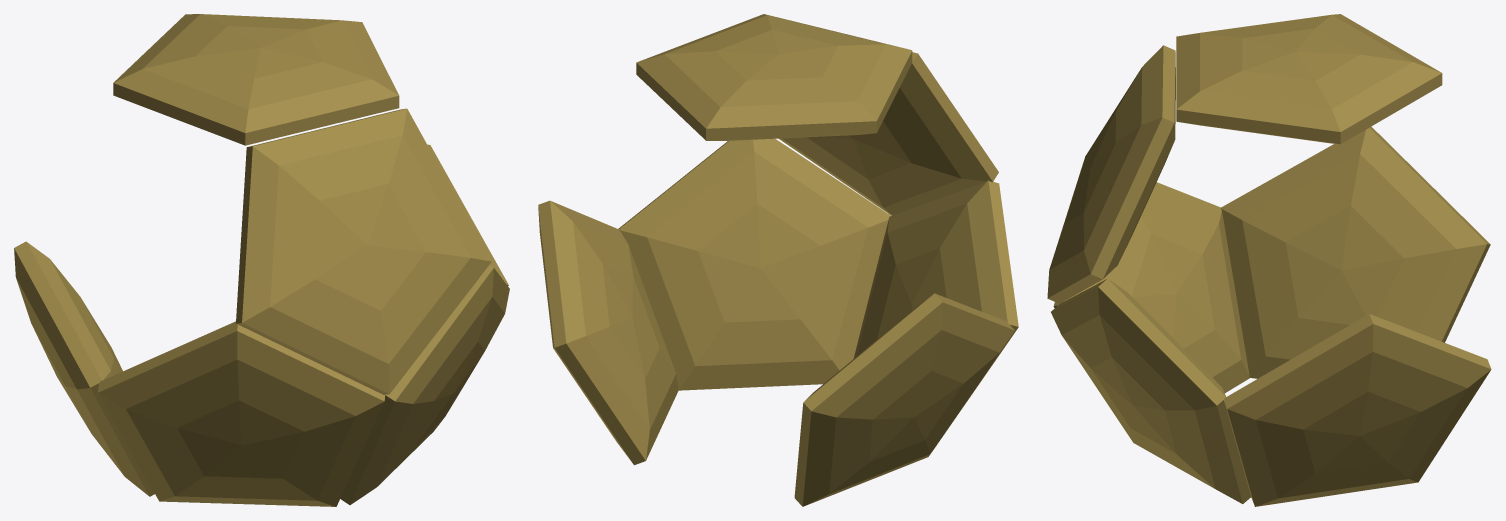
File: PFC_SixApent.fbx
3 views of the same model, side by side, from view 1: azimuth 30°, elevation 25°; view 2: azimuth 150°, elevation 25°; view 3: azimuth 270°, elevation 25° (orthographic). The views are drawn at different scales.
Parts seen in each view (by area): view 1: Pent.023; view 2: Pent.023; view 3: Pent.023.
Part boxes in pixels (<box>): Pent.023: <box>14,14,509,506</box>; Pent.023: <box>538,14,1018,506</box>; Pent.023: <box>1047,14,1491,506</box>.
Size of the model in its own units: 313 by 286 by 295.
